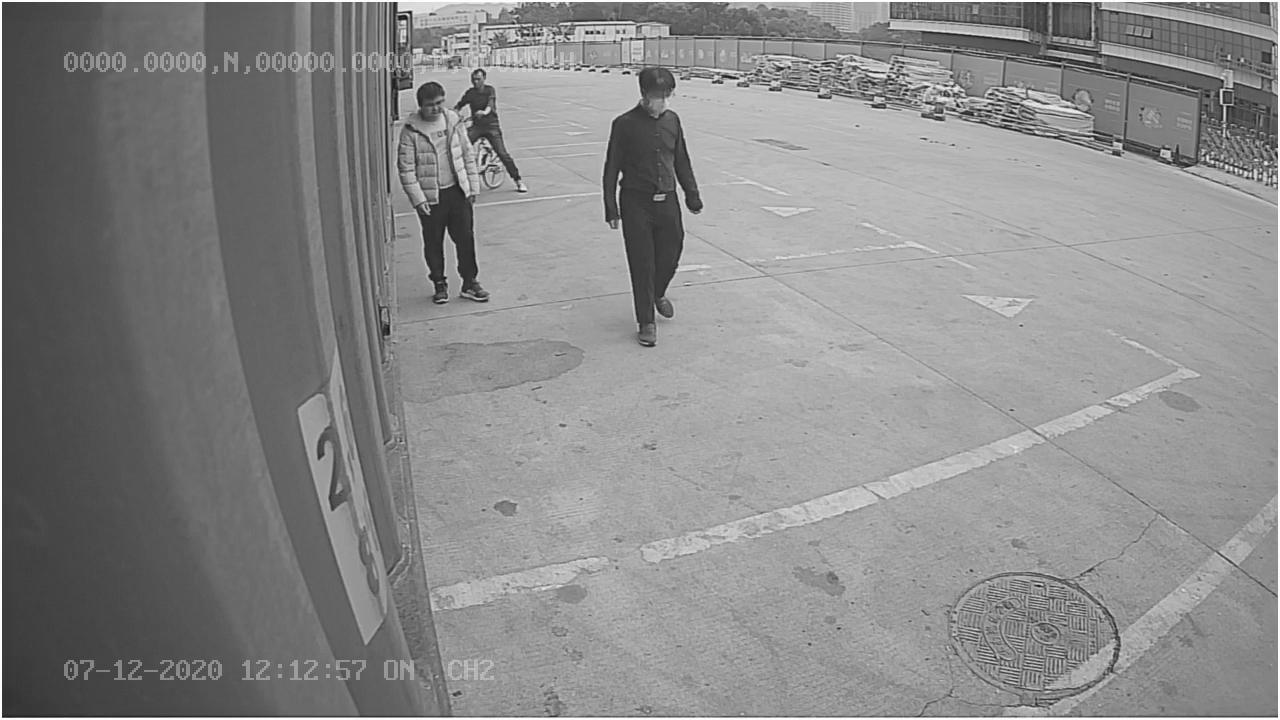person: (597, 65, 708, 347)
